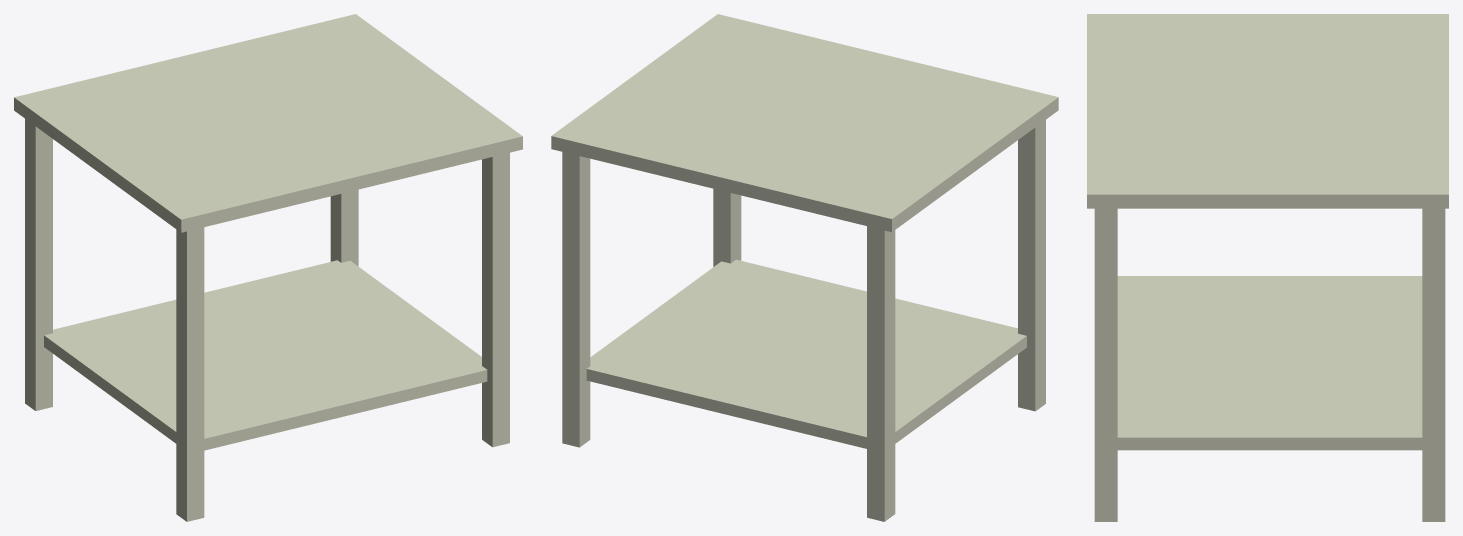
The model's file is 流水线_b1_zhuozi.fbx.
The picture shows the model from 3 angles, left to right: view 1: azimuth 30°, elevation 25°; view 2: azimuth 150°, elevation 25°; view 3: azimuth 270°, elevation 25°; orthographic projection. The views are drawn at different scales.
Visible parts, largest first — view 1: 对象001; view 2: 对象001; view 3: 对象001.
Part boxes in pixels (x1,y1,x2,y2): 对象001: (14,14,522,521); 对象001: (551,14,1058,521); 对象001: (1087,14,1448,521).
Size of the model in its own units: 23.77 by 20.41 by 20.14.
